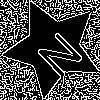N: (28, 23, 86, 81)
